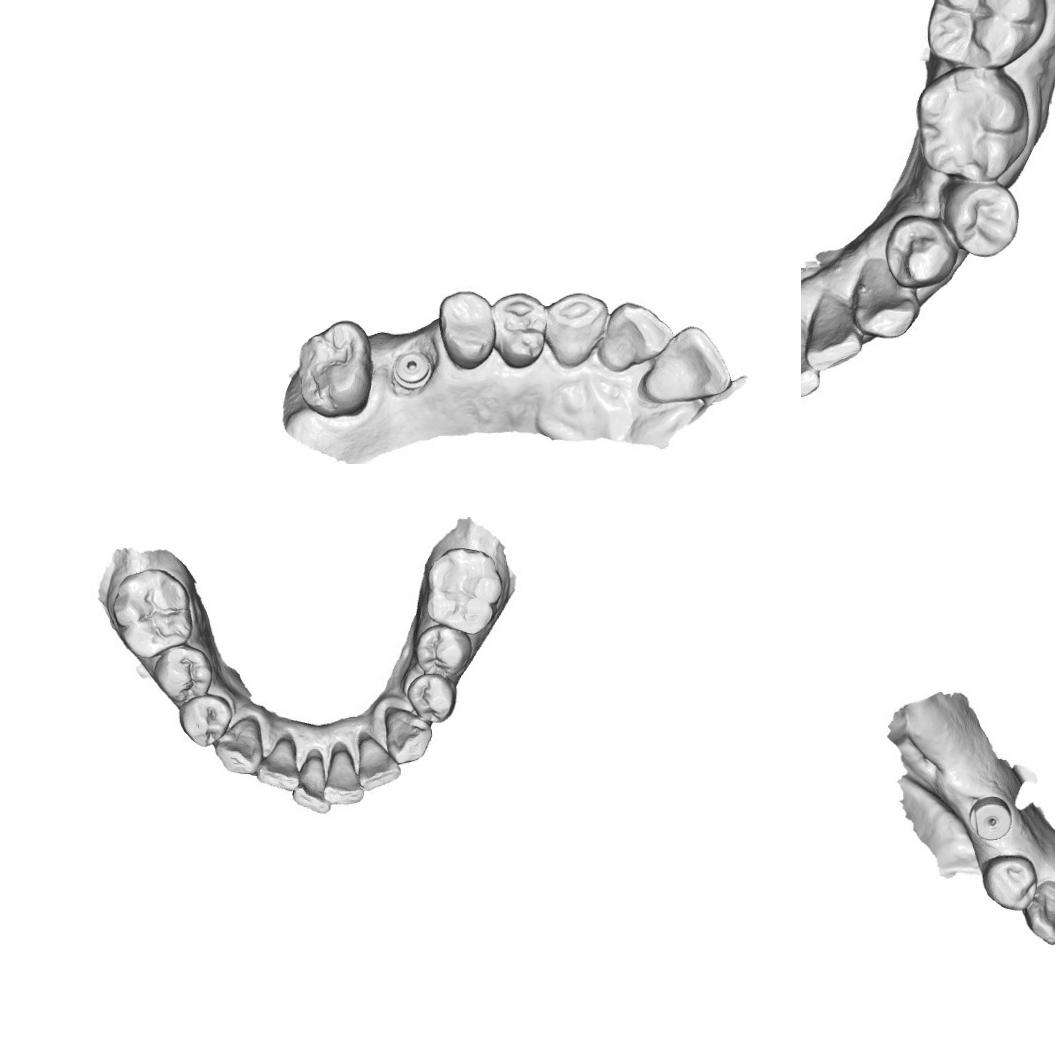canine: (852, 254, 920, 341), (542, 290, 610, 370), (212, 716, 268, 776), (380, 705, 433, 764), (1021, 877, 1055, 948)
implant: (965, 795, 1011, 841), (388, 348, 434, 392)
incisor: (640, 324, 733, 404), (594, 300, 674, 374), (806, 290, 865, 368), (320, 750, 366, 808), (288, 755, 331, 817), (253, 740, 301, 794), (355, 736, 402, 790), (801, 316, 821, 397)
molar: (918, 64, 1034, 188), (927, 0, 1048, 71), (294, 316, 376, 420), (109, 566, 194, 660), (422, 544, 506, 636)
premolar: (946, 174, 1022, 254), (886, 214, 956, 289), (436, 288, 496, 371), (490, 290, 548, 370), (150, 644, 216, 706), (980, 853, 1038, 912), (176, 691, 232, 750), (412, 624, 473, 678), (404, 670, 458, 725)
